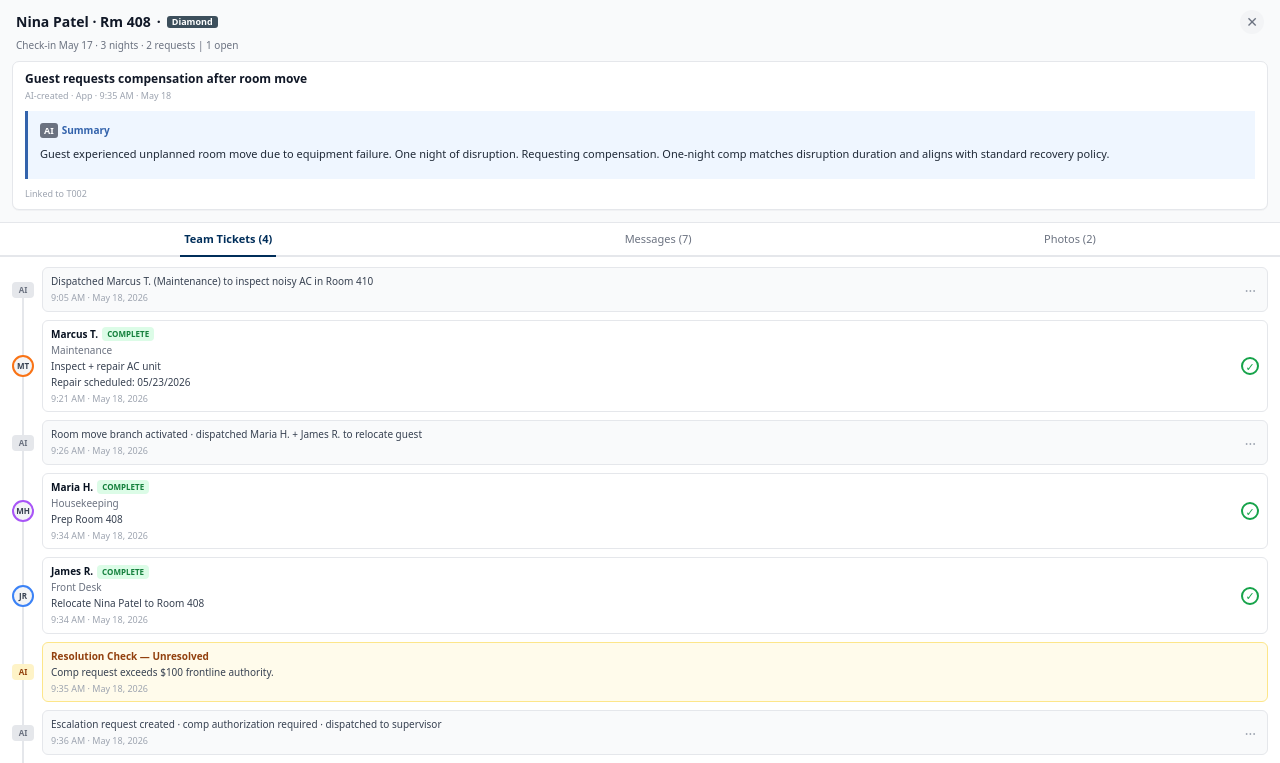
it: IssueDetail tabs › renders sample photos in the Photos tab
The image size is (1280, 763).
Click the button "Photos (2)". click: [1070, 240]
box: [1040,223,1100,257]
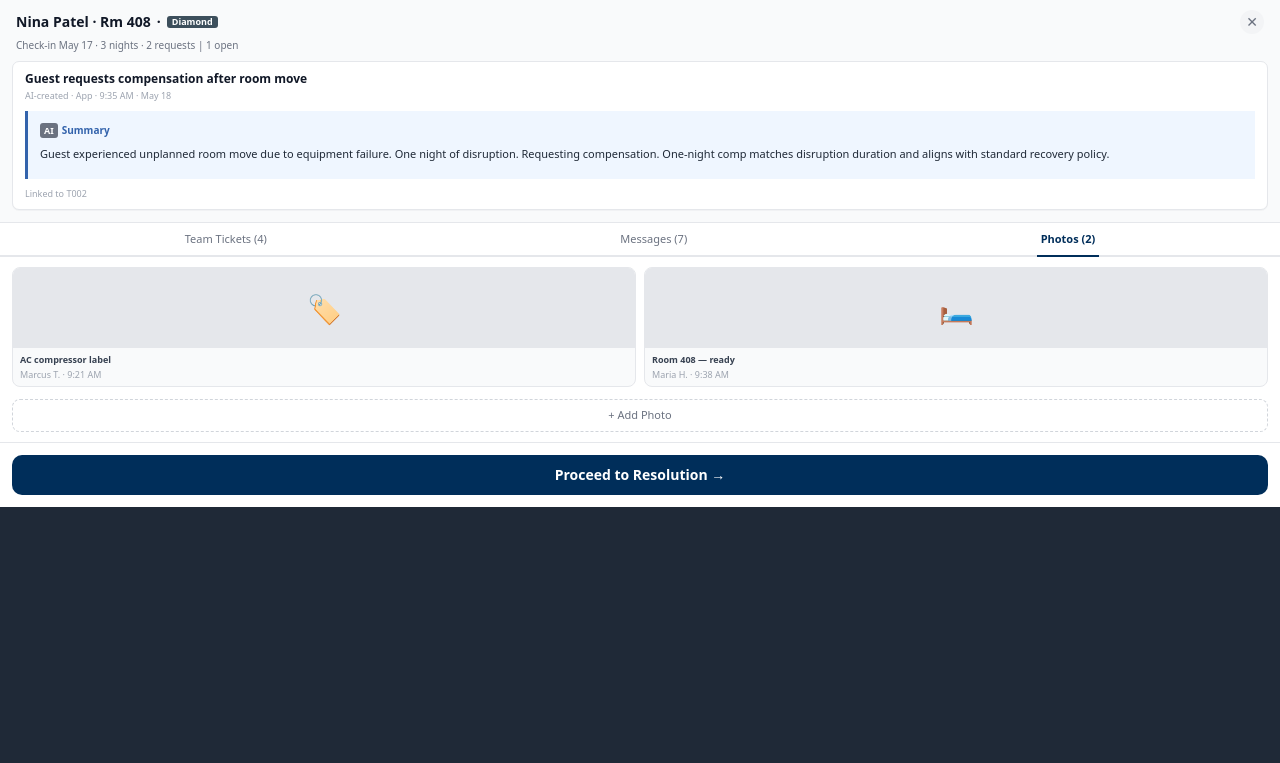
expect the text "Room 408 — ready" is shown: met, box [652,353,735,366]
expect the text "AC compressor label" is shown: met, box [20,353,111,366]
